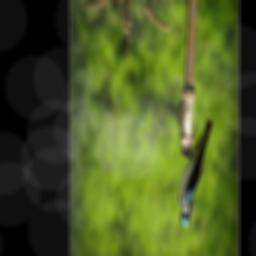Swallow: (178, 114, 213, 229)
